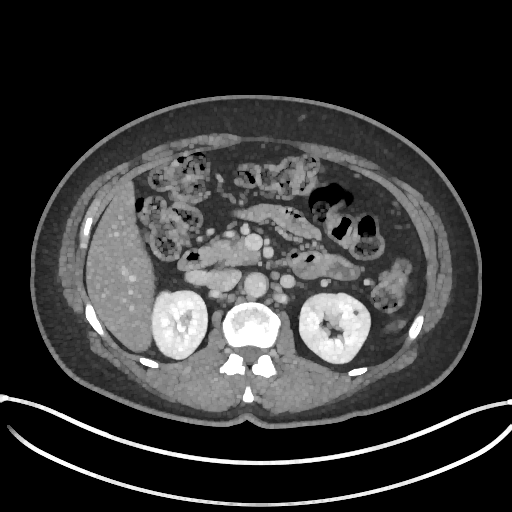Lesion: (349, 306, 362, 320)
